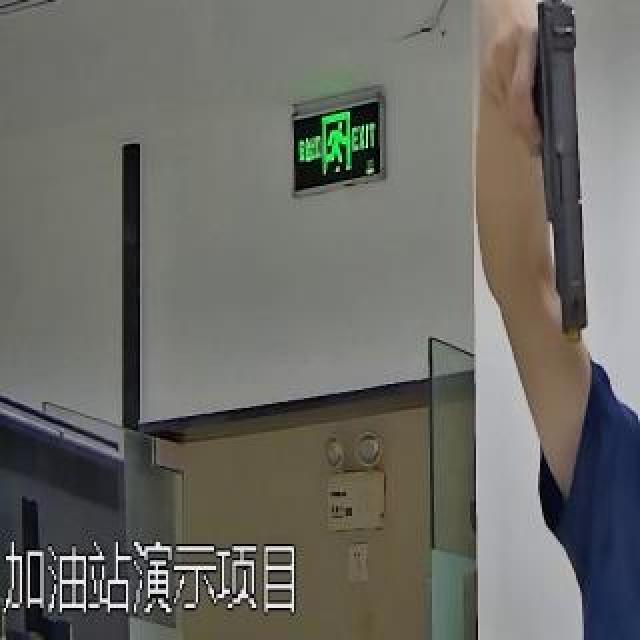Guns: (496, 0, 632, 388)
